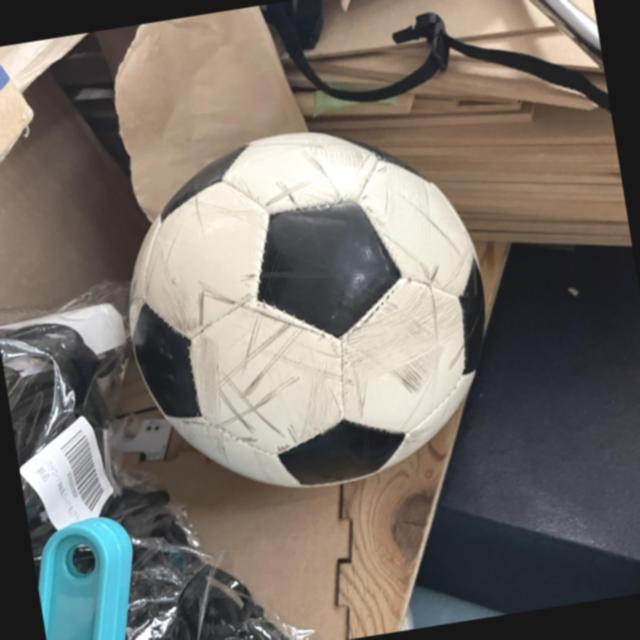Soccer Ball: (101, 110, 514, 514)
